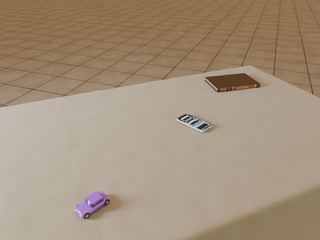book: (205, 73, 260, 92)
phone: (177, 114, 212, 132)
toy_car: (75, 191, 110, 219)
